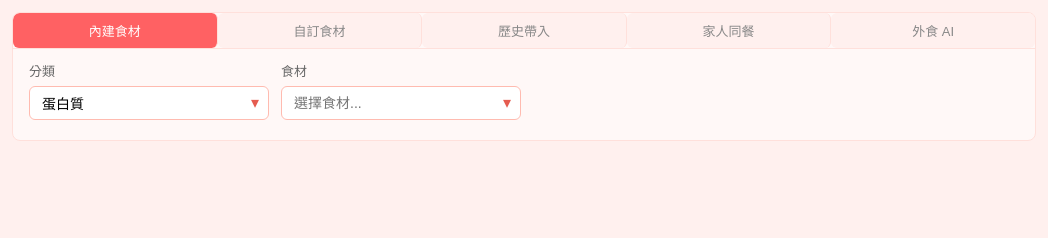
it: searchable menu integrations › loads builtin quantities, scales additions and clears the food after adding
The width and height of the screenshot is (1048, 238).
Later steps or results of the test are not shown.
In the dropdown labelled "食材": point(401, 103) [281,86,521,120], type "雞蛋"
Then press Enter
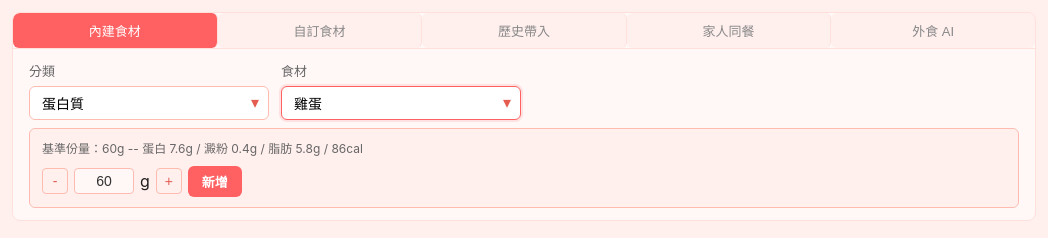
Check: the number field holds "60", box [74,168,134,194]
